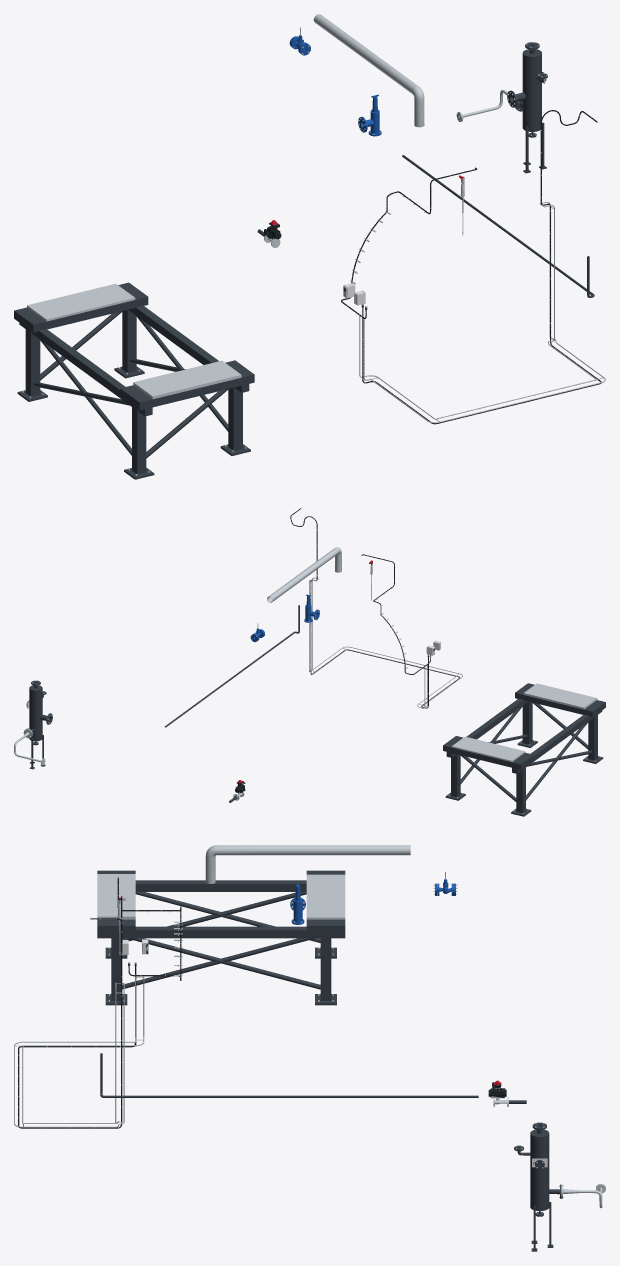
File: s4000-5-CWIv4YCT.glb
3 renders of one model, top to bottom at view 1: azimuth 30°, elevation 25°; view 2: azimuth 150°, elevation 25°; view 3: azimuth 270°, elevation 25°, orthographic. The views are drawn at different scales.
Visible parts, largest first — view 1: deaerator_support / dark, deaerator_support / steel, separator_fv8 / dark, cables / zinc, wiring_pressure_switch_1 / black, tds_common / dark, steam_delivery / steel, steam_rise / steel; view 2: deaerator_support / dark, deaerator_support / steel, separator_fv8 / dark, cables / zinc, wiring_pressure_switch_1 / black; view 3: deaerator_support / dark, deaerator_support / steel, separator_fv8 / dark, cables / zinc, tds_common / dark, steam_delivery / steel, wiring_pressure_switch_1 / black, steam_rise / steel.
Part boxes in pixels (x1,y1,x2,y2): deaerator_support / dark: (14, 282, 254, 479); deaerator_support / steel: (22, 283, 246, 475); separator_fv8 / dark: (507, 42, 547, 173); cables / zinc: (359, 201, 605, 423); wiring_pressure_switch_1 / black: (362, 110, 601, 424); tds_common / dark: (402, 155, 594, 297); steam_delivery / steel: (313, 14, 377, 63); steam_rise / steel: (389, 69, 424, 127); deaerator_support / dark: (443, 683, 605, 816); deaerator_support / steel: (448, 683, 600, 813); separator_fv8 / dark: (26, 680, 52, 769); cables / zinc: (309, 577, 462, 708); wiring_pressure_switch_1 / black: (290, 508, 460, 708); deaerator_support / dark: (97, 870, 345, 1005); deaerator_support / steel: (97, 874, 345, 1001); separator_fv8 / dark: (514, 1122, 561, 1251); cables / zinc: (14, 976, 144, 1127); tds_common / dark: (100, 1053, 478, 1097); steam_delivery / steel: (297, 845, 410, 855); wiring_pressure_switch_1 / black: (18, 896, 136, 1128); steam_rise / steel: (205, 845, 261, 883).
Size of the model in its own units: 8.21 by 3.37 by 6.78.
